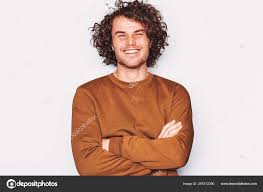person: (83, 6, 186, 106)
